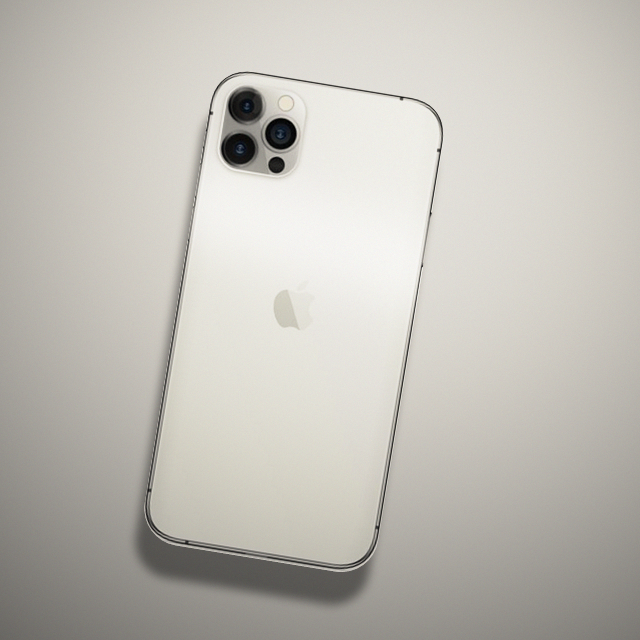iphone_12pro_silver: (129, 36, 472, 607), (208, 70, 324, 198)
